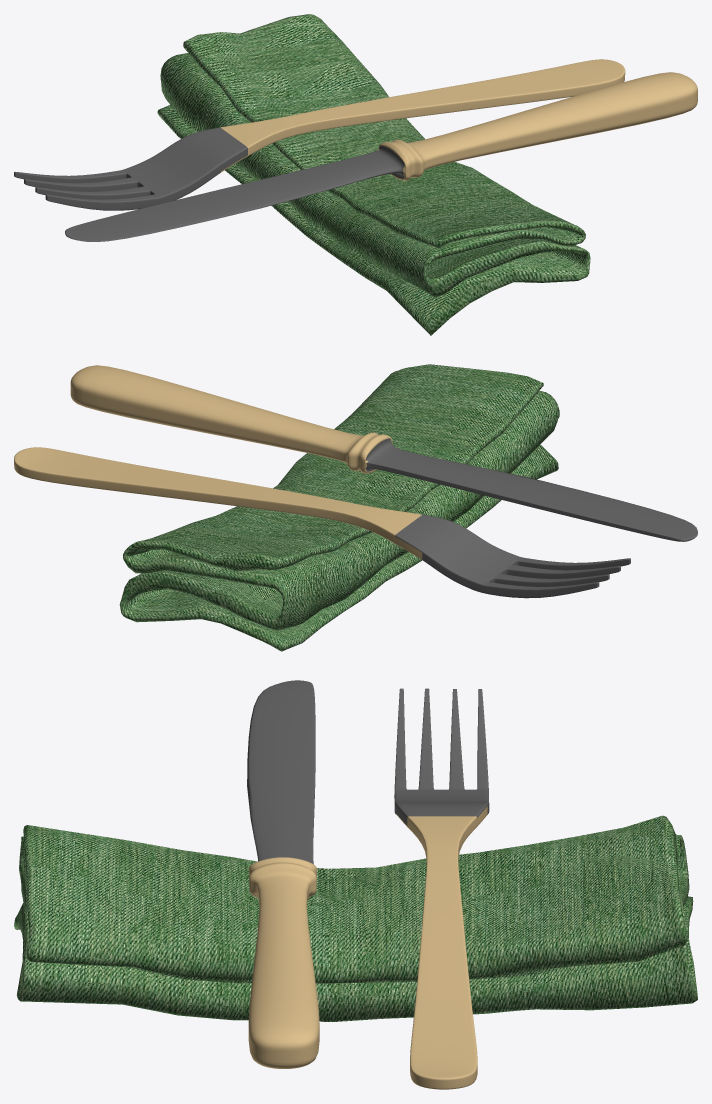
Rendered from KnifeAndFork - 副本.fbx.
The picture shows the model from 3 angles, top to bottom: view 1: azimuth 30°, elevation 25°; view 2: azimuth 150°, elevation 25°; view 3: azimuth 270°, elevation 25°; orthographic projection. The views are drawn at different scales.
Parts seen in each view (by area): view 1: Knife; view 2: Knife; view 3: Knife.
Boxes of the visible parts, bbox=[...] form: Knife: bbox=[14, 14, 697, 335]; Knife: bbox=[14, 364, 697, 651]; Knife: bbox=[14, 680, 697, 1089].
Bounding box in the file's own units: 2713 × 436 × 2087.
3 materials, 1 textured.
